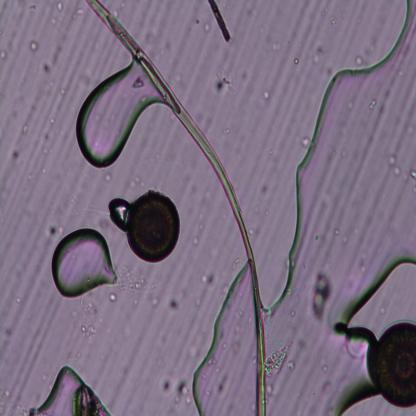Air bubble: (260, 0, 416, 314), (187, 259, 254, 416), (76, 56, 155, 172), (345, 256, 416, 340), (49, 231, 119, 298), (26, 363, 80, 416), (338, 389, 384, 416), (110, 197, 130, 232)
Background material: (309, 267, 336, 318), (114, 262, 154, 296), (264, 339, 290, 379), (74, 385, 106, 416), (208, 0, 231, 42), (0, 390, 28, 416), (211, 69, 237, 96), (173, 377, 192, 409), (404, 24, 416, 55), (348, 340, 366, 358), (45, 221, 66, 236), (312, 41, 324, 65), (158, 375, 173, 394), (318, 378, 333, 396), (31, 259, 43, 281), (38, 60, 53, 76), (168, 296, 181, 314), (83, 301, 94, 322), (52, 44, 63, 65), (131, 175, 147, 189), (79, 323, 94, 337), (217, 375, 228, 393), (7, 33, 16, 53), (9, 149, 22, 162), (200, 272, 214, 284), (257, 185, 269, 199), (232, 338, 241, 356), (357, 255, 366, 273), (3, 324, 14, 338), (193, 294, 205, 306), (286, 359, 297, 372), (354, 53, 364, 67), (365, 41, 375, 55), (71, 7, 83, 18), (246, 227, 258, 238), (231, 257, 241, 270), (266, 382, 276, 395), (57, 84, 66, 98), (156, 355, 166, 367), (134, 77, 144, 89), (272, 40, 282, 52), (260, 89, 270, 101), (327, 147, 336, 160), (406, 123, 414, 137), (322, 360, 330, 374), (392, 165, 402, 176), (101, 172, 112, 182), (149, 297, 159, 308), (300, 136, 310, 147), (112, 6, 121, 18), (388, 155, 396, 168), (39, 371, 49, 381), (324, 406, 334, 416), (29, 41, 38, 52), (109, 292, 118, 303), (48, 17, 58, 26), (41, 146, 50, 156), (367, 100, 376, 110), (410, 166, 416, 181), (324, 66, 332, 77), (57, 0, 64, 12), (49, 115, 57, 125), (193, 235, 200, 246), (31, 100, 38, 111), (43, 130, 50, 141), (241, 71, 248, 82), (28, 4, 37, 12), (0, 49, 8, 58), (131, 297, 140, 305), (320, 7, 328, 16), (174, 75, 182, 84), (222, 127, 230, 136), (204, 22, 211, 32), (209, 357, 217, 365), (396, 68, 404, 76), (388, 228, 395, 237), (22, 125, 29, 134), (403, 172, 409, 182), (380, 306, 386, 316), (200, 373, 207, 381), (14, 296, 21, 304), (26, 172, 33, 180), (346, 102, 354, 109), (340, 150, 347, 157), (11, 112, 18, 119), (222, 340, 228, 348), (42, 165, 48, 173), (158, 48, 164, 56), (204, 390, 210, 398), (341, 236, 347, 244), (252, 355, 257, 364), (330, 20, 337, 26), (238, 309, 244, 316), (334, 228, 340, 235), (293, 58, 300, 64), (220, 332, 225, 340), (199, 224, 204, 232), (289, 311, 294, 318), (314, 234, 319, 241), (280, 96, 285, 103), (196, 18, 200, 24)
Diatom: (128, 193, 184, 263), (374, 318, 416, 411)
Microfibre: (87, 1, 267, 415)
